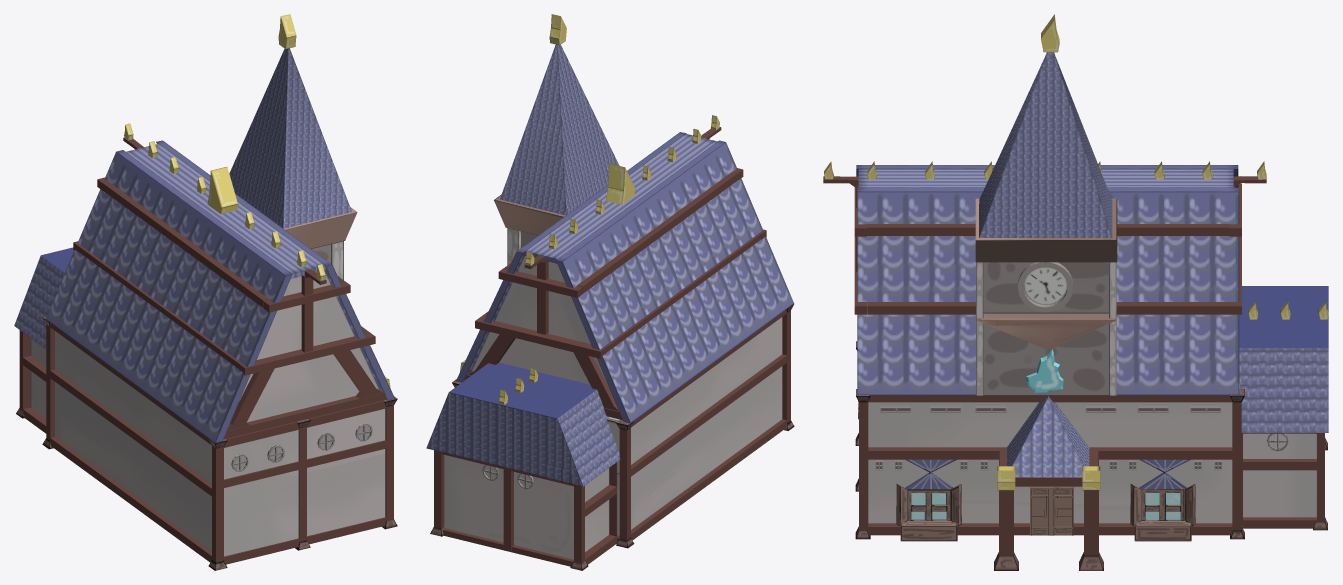
Rendered from TownHall-fix 1.fbx.
The picture shows the model from 3 angles, left to right: view 1: azimuth 30°, elevation 25°; view 2: azimuth 150°, elevation 25°; view 3: azimuth 270°, elevation 25°; orthographic projection. The views are drawn at different scales.
Parts seen in each view (by area): view 1: atap; view 2: atap; view 3: atap.
Part boxes in pixels (box(x1,y1,x2,y2)): atap: box(14, 14, 397, 570); atap: box(426, 14, 794, 570); atap: box(823, 14, 1328, 570).
Size of the model in its own units: 107 by 196 by 175.
